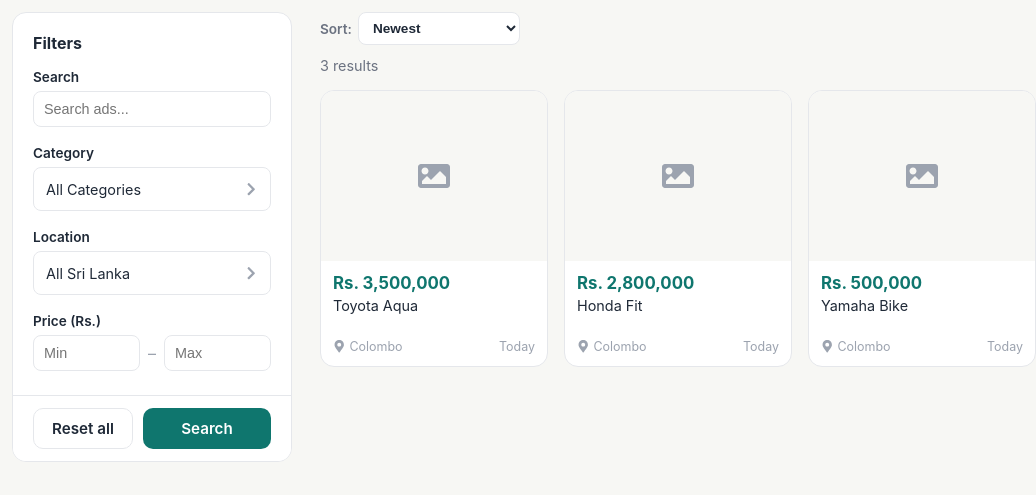
Scenario: AdSearchResults › does not apply draft filter edits to results until confirmed
Expected: the text "Toyota Aqua" is shown, x1=333 y1=296 x2=418 y2=314
Type "3000000" into the number field with id "filter-min-price".
click(86, 353); type("3000000")  # box x1=33 y1=335 x2=140 y2=371
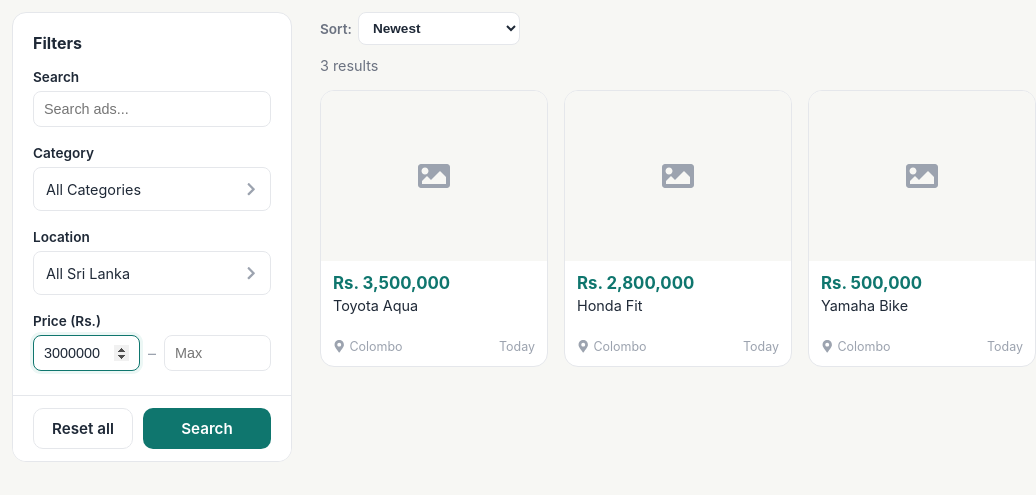
Expected: the text "Honda Fit" is shown, x1=577 y1=296 x2=642 y2=314
Click the button "Search".
click(207, 428)  # box x1=143 y1=408 x2=271 y2=449
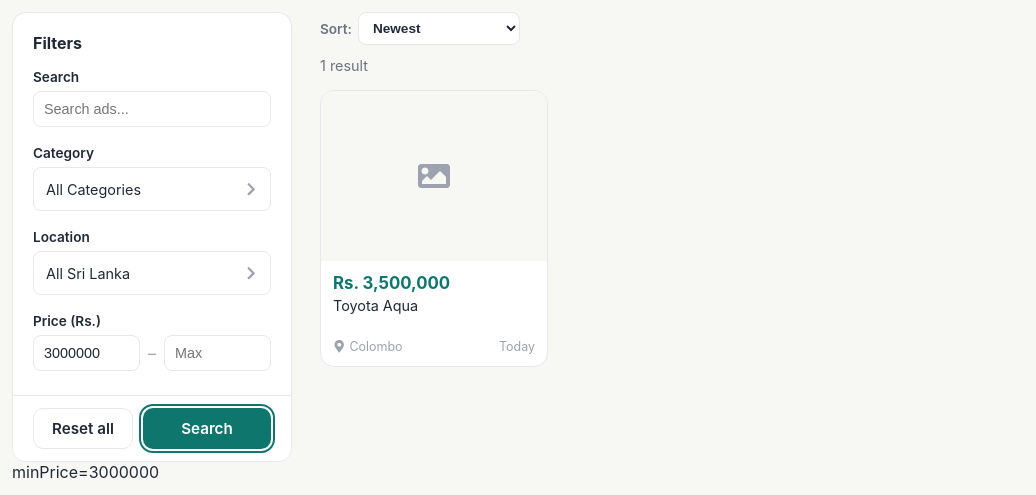
Expected: the text "Toyota Aqua" is shown, x1=333 y1=296 x2=418 y2=314
Expected: the link "Honda Fit" is gone
